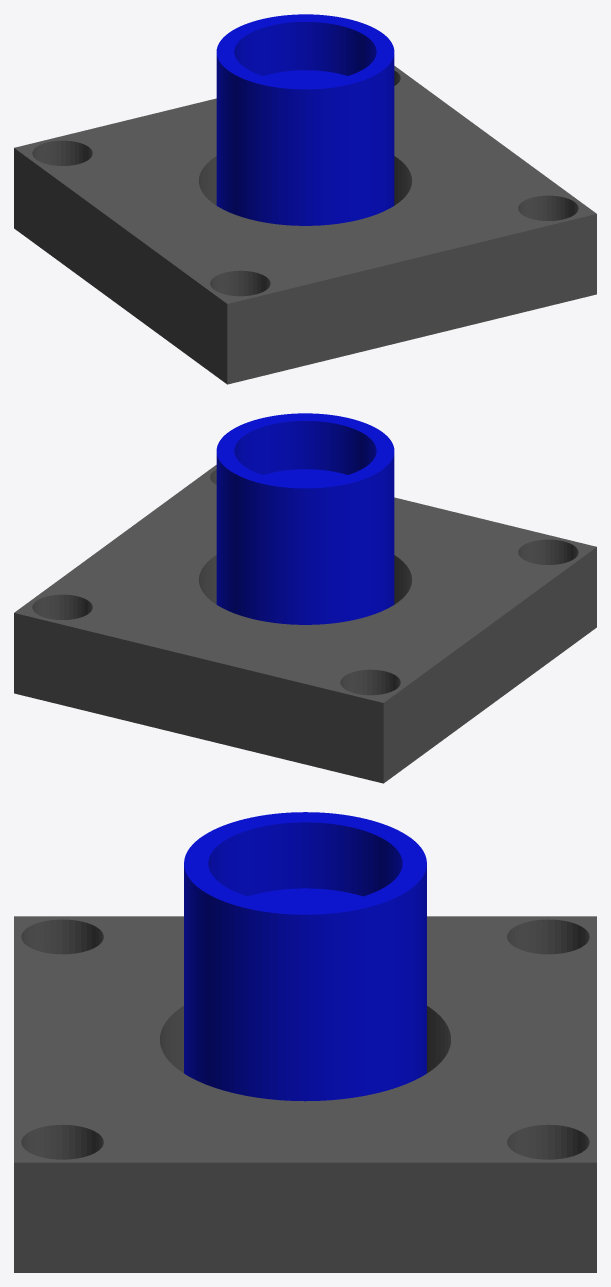
Rendered from MidAssembly.dae.
The picture shows the model from 3 angles, top to bottom: view 1: azimuth 30°, elevation 25°; view 2: azimuth 150°, elevation 25°; view 3: azimuth 270°, elevation 25°; orthographic projection. The views are drawn at different scales.
Visible parts, largest first — view 1: node.001; view 2: node.001; view 3: node.001.
Part boxes in pixels (<box>): node.001: <box>14,14,596,384</box>; node.001: <box>14,413,596,783</box>; node.001: <box>14,812,596,1272</box>.
Bounding box in the file's own units: 0.12 × 0.12 × 0.065.
